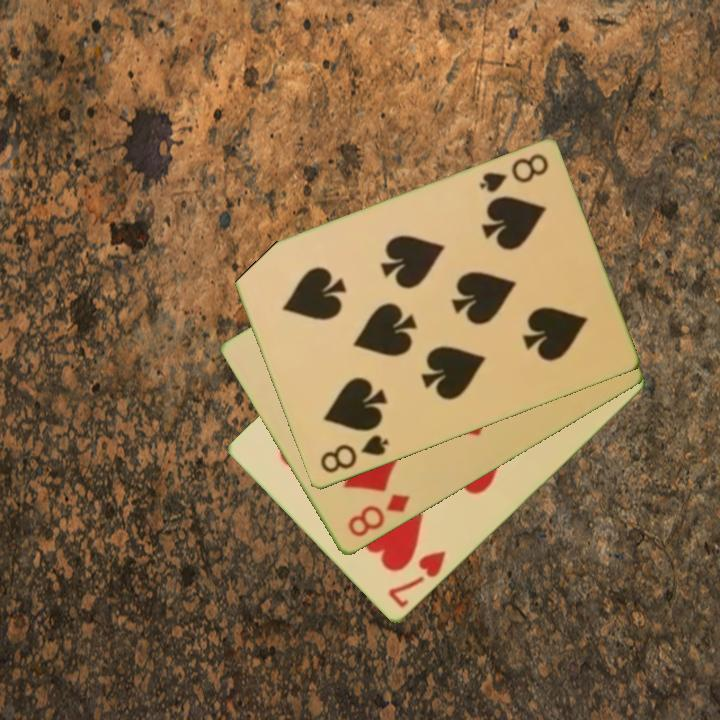7h: (384, 547, 449, 612)
8d: (344, 490, 413, 541)
8s: (475, 150, 551, 196), (316, 431, 391, 477)
